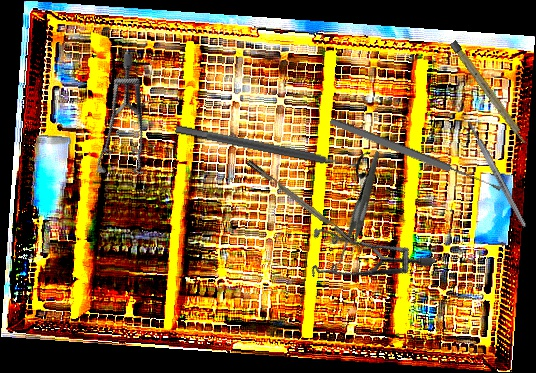Chopper: (246, 153, 373, 257)
Dressing Forceps: (311, 150, 413, 270)
Fixation Ring: (172, 113, 371, 182)
Scalpel Handle: (449, 40, 530, 146), (465, 119, 528, 229)
Speculum: (291, 189, 437, 330), (57, 50, 197, 195)
Surgical Spoon: (328, 116, 503, 194)
